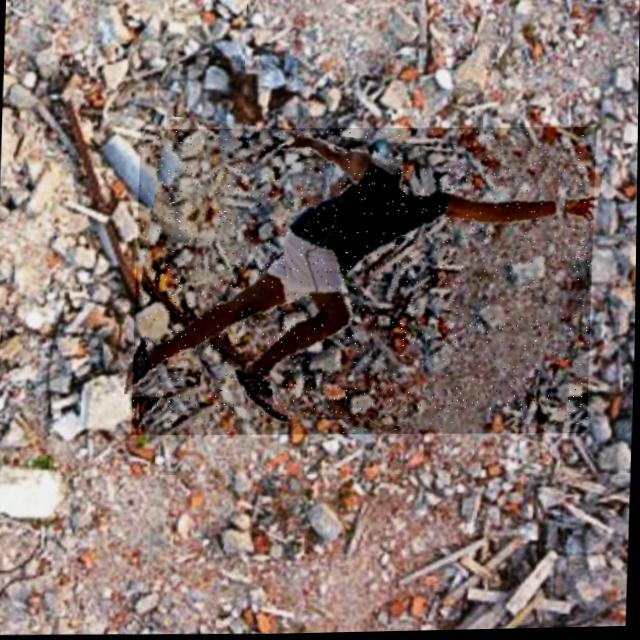Person in Rubble: (132, 122, 596, 444)
